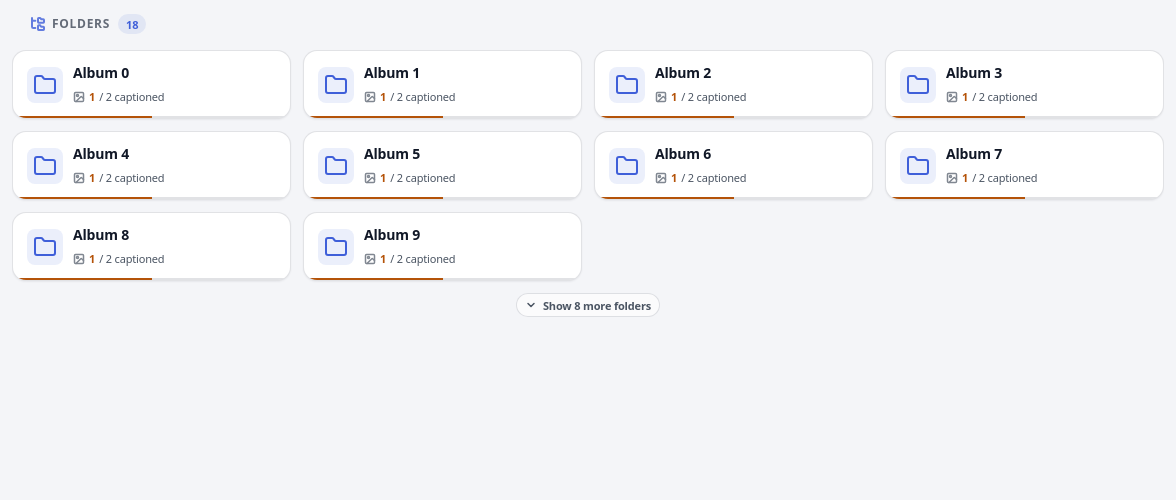
Scenario: FolderGrid clamping › reveals the rest and offers the way back
Step 1. Click the button "Show 8 more folders" → click(588, 305), box [516, 293, 660, 317]
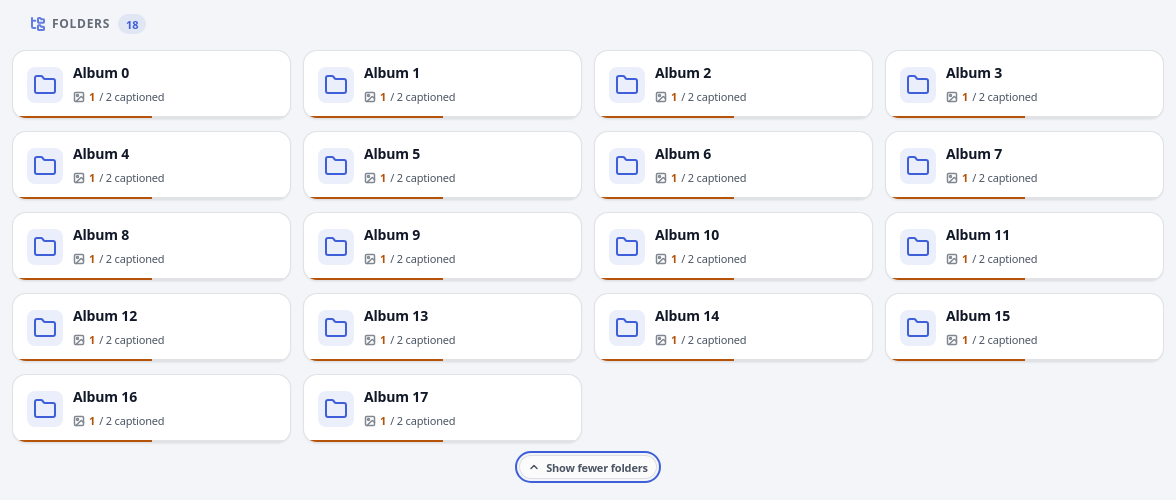
Now the number of buttons with class "folder-card" is 18
Now the button "Show fewer folders" is expanded
Step 2. Click the button "Show fewer folders" → click(588, 467), box [519, 455, 657, 479]
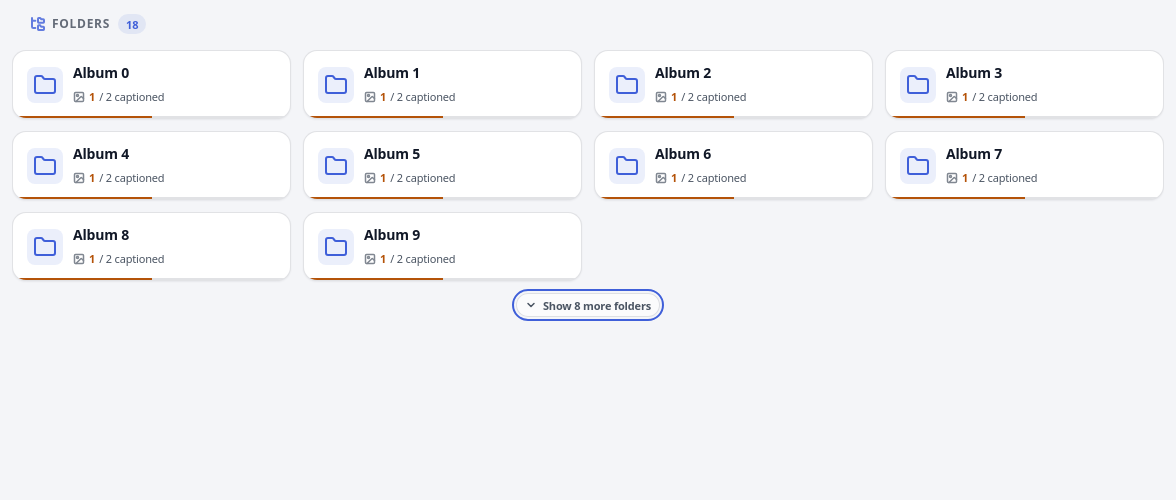
Now the number of buttons with class "folder-card" is 10
